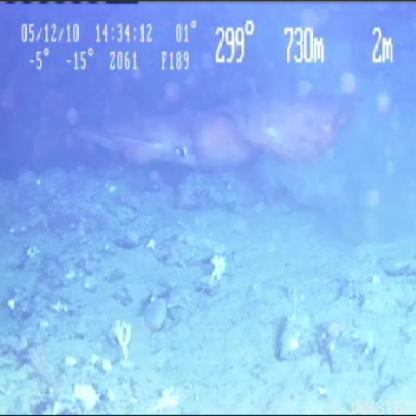Bio: (68, 89, 366, 189)
